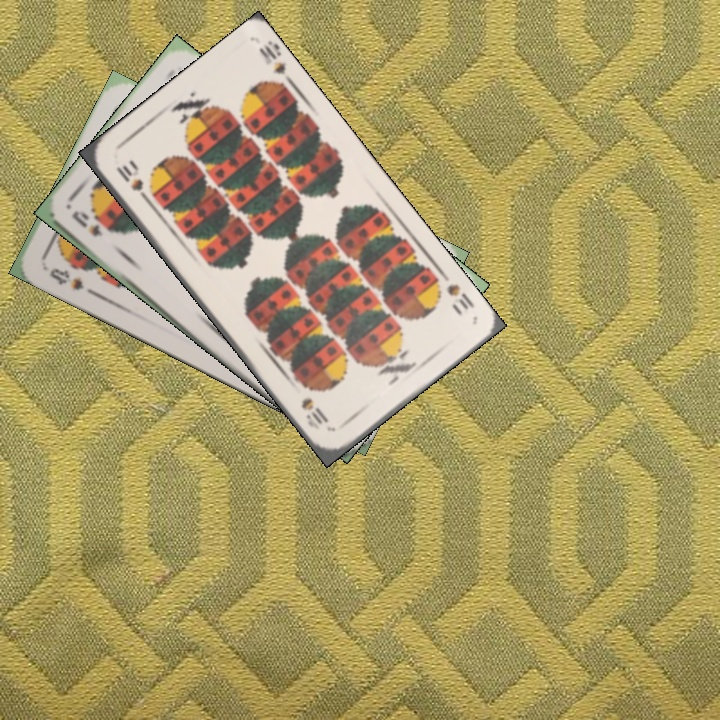S10: (111, 161, 153, 205), (442, 279, 477, 313)
S8: (45, 264, 86, 293)
SO: (67, 206, 106, 239)
